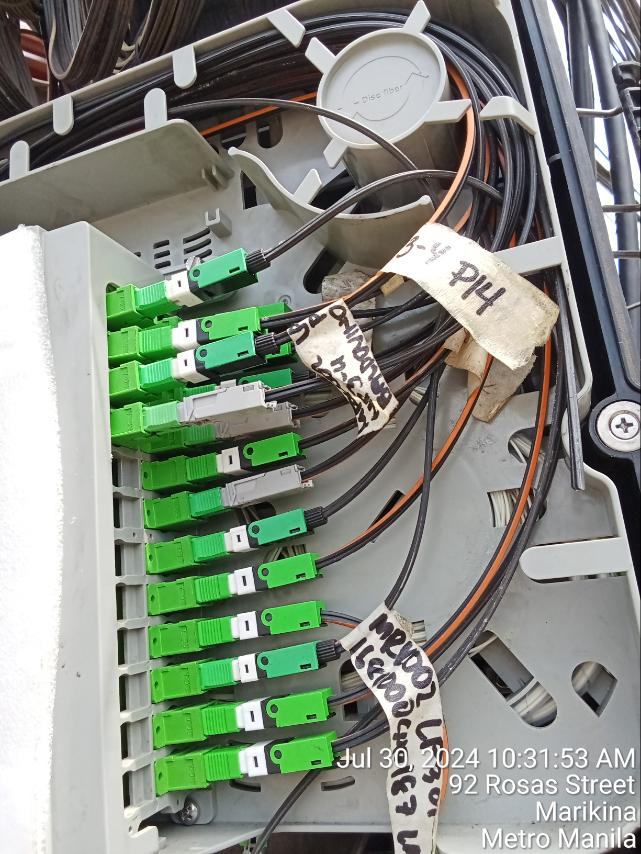no port: (120, 763, 151, 810), (104, 451, 140, 491), (108, 491, 144, 531), (107, 536, 143, 576), (116, 674, 148, 717), (119, 718, 151, 761), (115, 628, 146, 665), (114, 587, 145, 623)
occupied: (134, 237, 278, 317), (138, 322, 283, 392), (198, 631, 348, 695), (199, 726, 348, 790), (189, 592, 338, 656), (198, 679, 348, 742), (189, 503, 331, 564), (191, 544, 332, 605), (184, 463, 322, 524), (142, 379, 270, 436), (184, 430, 312, 485), (138, 305, 266, 358), (183, 363, 313, 410), (185, 402, 306, 448), (177, 299, 299, 344), (179, 335, 297, 378)
